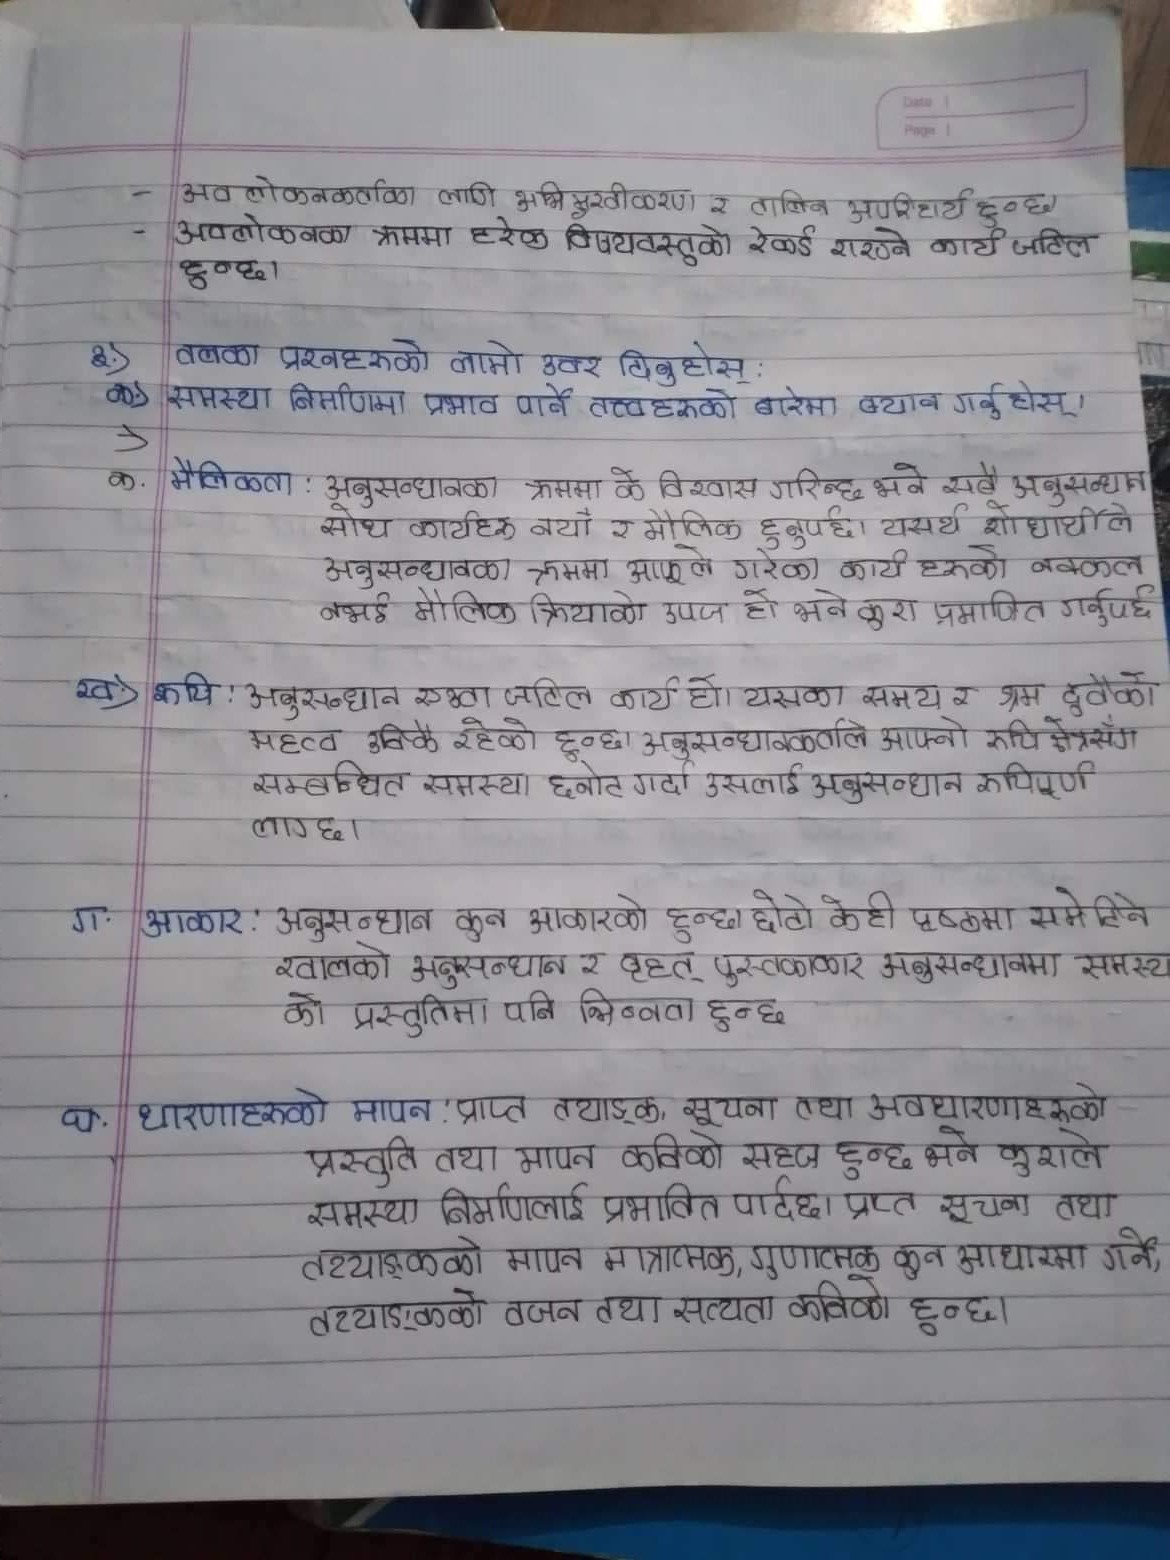text: (865, 1076, 1110, 1124), (305, 1289, 488, 1343), (512, 170, 693, 220), (132, 1088, 333, 1133), (642, 720, 869, 757), (560, 222, 734, 267), (435, 1183, 597, 1230), (348, 989, 494, 1040), (301, 1239, 485, 1280), (589, 384, 736, 432), (299, 1134, 423, 1189), (171, 213, 350, 251), (880, 945, 1058, 983), (954, 1233, 1091, 1282), (277, 330, 433, 373), (404, 948, 570, 988), (160, 454, 295, 502), (321, 468, 501, 504), (785, 1277, 889, 1336), (321, 552, 511, 583), (1023, 884, 1153, 931), (903, 1289, 1015, 1343), (1056, 668, 1170, 721), (614, 341, 751, 386), (810, 764, 962, 803), (951, 381, 1083, 426), (525, 891, 649, 938), (253, 760, 407, 798), (243, 678, 399, 715), (245, 174, 417, 208), (712, 950, 871, 985), (277, 902, 430, 938), (578, 988, 696, 1035), (994, 1129, 1107, 1178), (286, 380, 415, 423), (274, 941, 392, 988), (1010, 464, 1154, 502), (599, 1239, 742, 1277), (611, 1131, 729, 1177), (976, 759, 1100, 802), (982, 502, 1133, 537), (746, 1237, 881, 1275), (408, 588, 517, 633), (603, 1184, 718, 1226), (528, 590, 648, 629), (928, 591, 1047, 630), (544, 1090, 669, 1126), (163, 380, 277, 419), (847, 185, 967, 222), (730, 1176, 822, 1223), (404, 505, 517, 543), (140, 902, 246, 942), (308, 1195, 422, 1232), (1058, 583, 1153, 626), (703, 762, 800, 802), (1073, 950, 1170, 990), (644, 509, 742, 547), (626, 547, 717, 587), (1025, 552, 1149, 581), (877, 715, 967, 755), (705, 994, 798, 1033), (760, 509, 860, 544), (771, 466, 862, 505), (744, 887, 816, 936), (501, 1290, 586, 1332), (365, 219, 452, 259), (921, 544, 1008, 585), (838, 1183, 925, 1223), (832, 1137, 909, 1183), (167, 334, 262, 371), (682, 1090, 777, 1126), (1010, 226, 1094, 267), (449, 334, 525, 378), (751, 387, 842, 424), (243, 723, 340, 758), (905, 903, 1018, 932), (651, 470, 760, 501), (520, 552, 610, 588), (936, 1188, 1029, 1223), (1100, 1227, 1169, 1274), (973, 188, 1062, 224), (423, 769, 530, 798), (619, 948, 702, 986), (662, 900, 735, 943), (741, 681, 847, 710), (737, 1137, 825, 1173), (877, 504, 967, 538), (830, 225, 913, 262), (921, 1126, 984, 1174), (556, 721, 630, 762), (176, 255, 270, 287), (150, 671, 218, 715), (599, 1289, 666, 1333), (730, 552, 823, 583), (1046, 1187, 1125, 1223), (447, 717, 535, 751), (499, 1244, 589, 1276), (823, 891, 896, 930), (857, 387, 939, 421), (925, 228, 1002, 265), (316, 504, 390, 542), (466, 221, 547, 255), (1052, 723, 1147, 753), (251, 814, 344, 844), (662, 595, 736, 631), (747, 188, 832, 220), (746, 225, 821, 260), (547, 768, 622, 803), (866, 461, 934, 500), (530, 505, 594, 545), (456, 1090, 528, 1125), (839, 547, 908, 583), (501, 988, 560, 1031), (350, 1094, 433, 1125), (790, 1086, 857, 1124), (632, 763, 696, 802), (857, 681, 941, 710), (435, 181, 508, 215), (412, 681, 493, 711), (503, 681, 594, 708), (893, 1237, 948, 1282), (320, 591, 391, 625), (612, 676, 676, 714), (423, 388, 501, 419), (857, 592, 916, 633), (984, 717, 1043, 758), (50, 1101, 103, 1145), (511, 1142, 594, 1171), (791, 588, 850, 628), (434, 1142, 503, 1176), (455, 899, 508, 942), (515, 383, 573, 423), (365, 720, 435, 752), (537, 346, 600, 380), (281, 988, 327, 1033), (524, 473, 600, 500), (176, 174, 234, 209), (944, 466, 1003, 499), (61, 902, 111, 940), (70, 669, 116, 710), (997, 676, 1038, 712), (685, 673, 723, 712), (744, 587, 780, 626), (104, 380, 140, 415), (100, 462, 139, 493), (612, 466, 643, 500), (576, 945, 608, 977), (86, 339, 116, 373), (951, 681, 980, 712), (709, 187, 732, 215), (610, 513, 632, 540)
